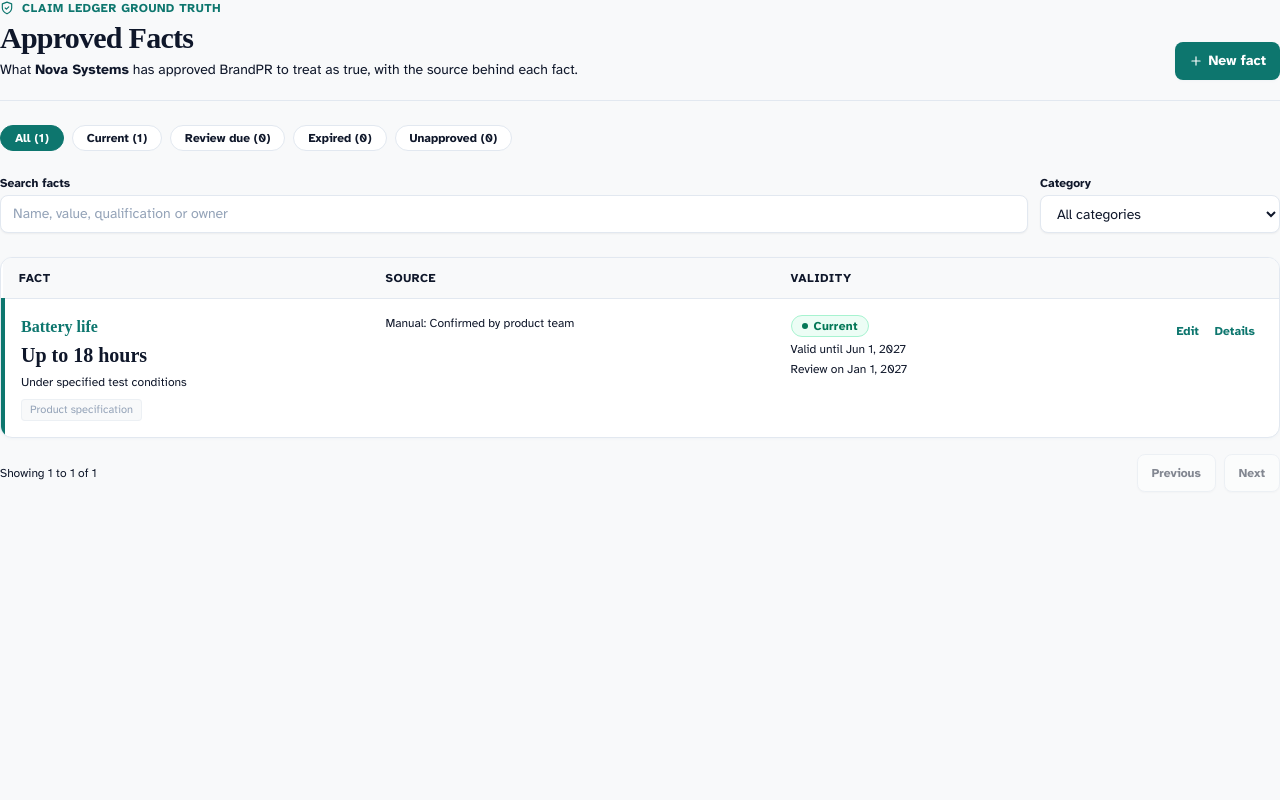
Test case: Approved Facts page › requires a reason to mark a fact expired
This screenshot has width=1280, height=800.
Click the button with aria-label "Details for Battery life" at (1235, 331), box [1207,315,1263,347]
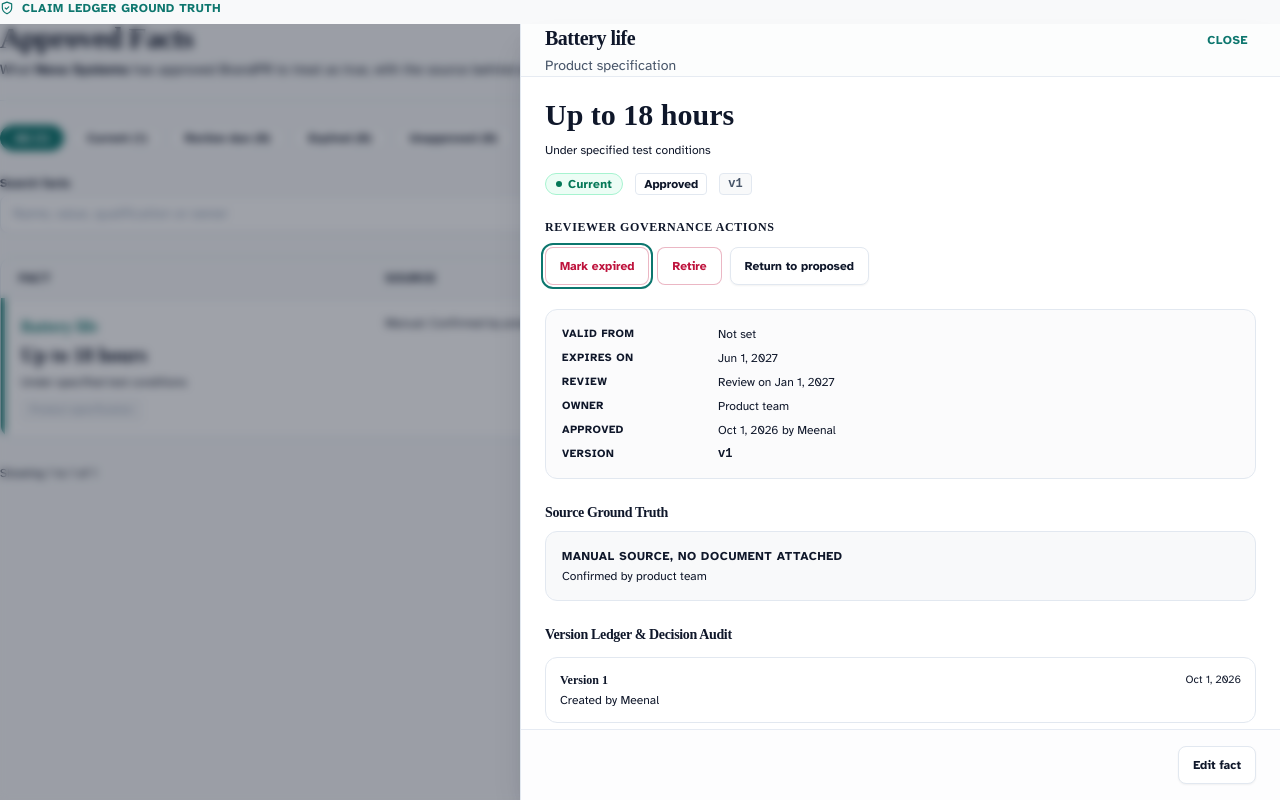
Click the button "Mark expired" at (597, 266), box [545,246,649,284]
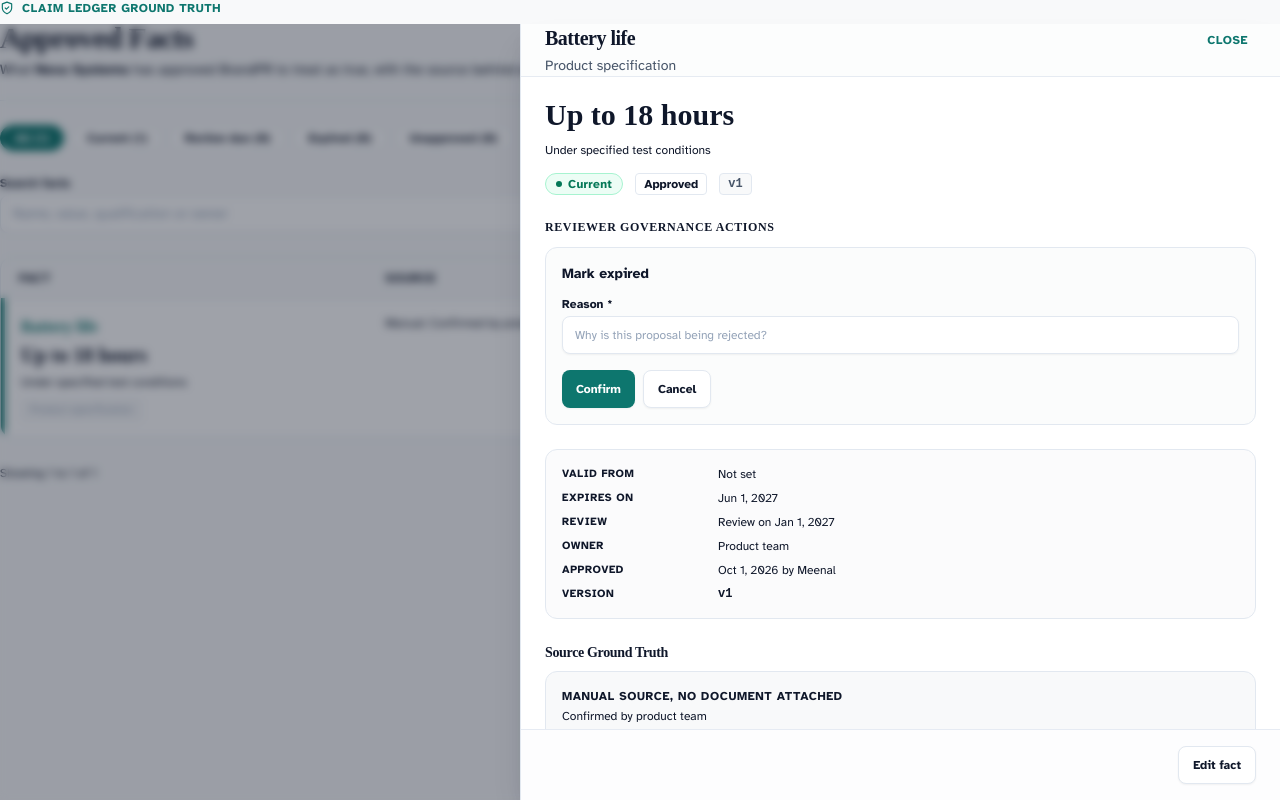
Click the button "Confirm" at (598, 388), box [562,370,635,408]
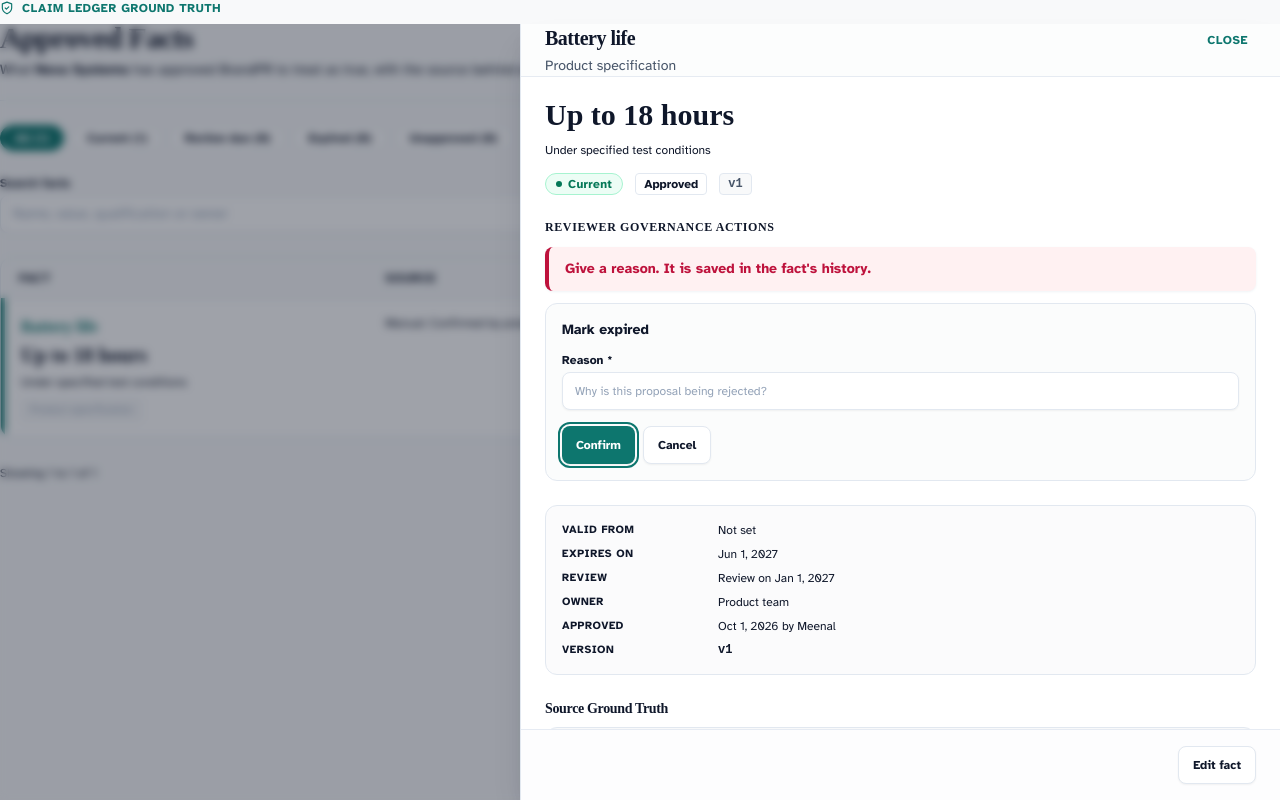
Result: the message shows "Give a reason" at [565,260,871,276]
